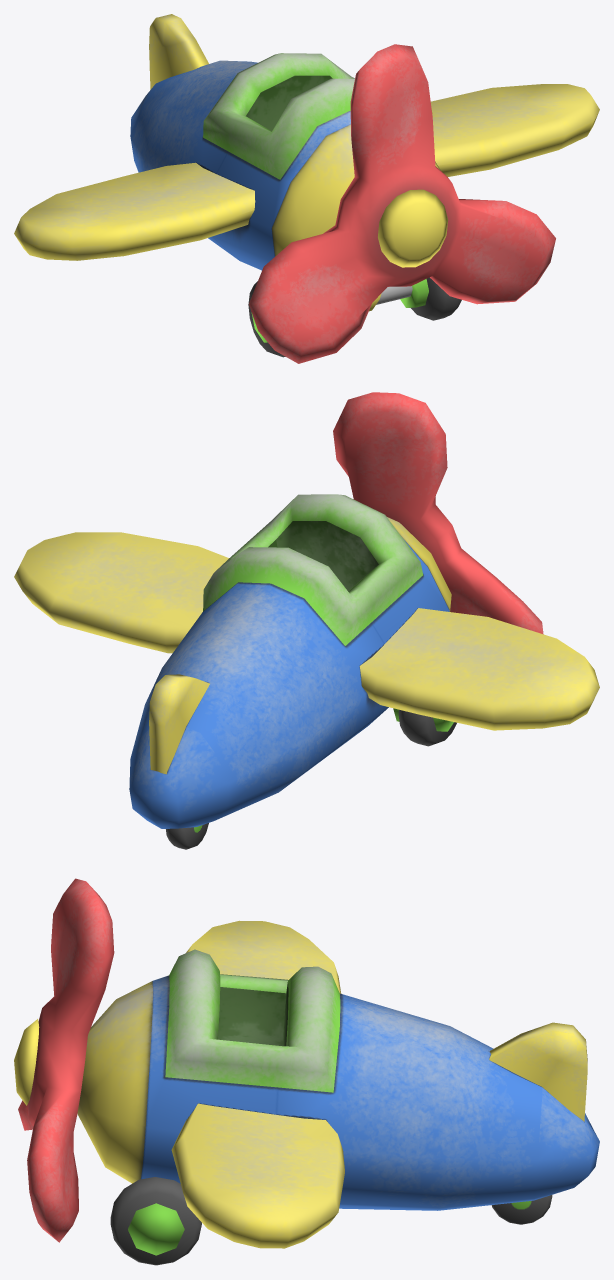
File: Plane_Toy.fbx
3 views of the same model, one above another, from view 1: azimuth 30°, elevation 25°; view 2: azimuth 150°, elevation 25°; view 3: azimuth 270°, elevation 25° (orthographic). The views are drawn at different scales.
Visible parts, largest first — view 1: Toy_Plane2_pCylinder17; view 2: Toy_Plane2_pCylinder17; view 3: Toy_Plane2_pCylinder17.
Part boxes in pixels (x1,y1,x2,y2): Toy_Plane2_pCylinder17: [14, 14, 599, 363]; Toy_Plane2_pCylinder17: [14, 392, 599, 849]; Toy_Plane2_pCylinder17: [14, 878, 599, 1265].
Size of the model in its own units: 19.82 by 10.27 by 16.25.
